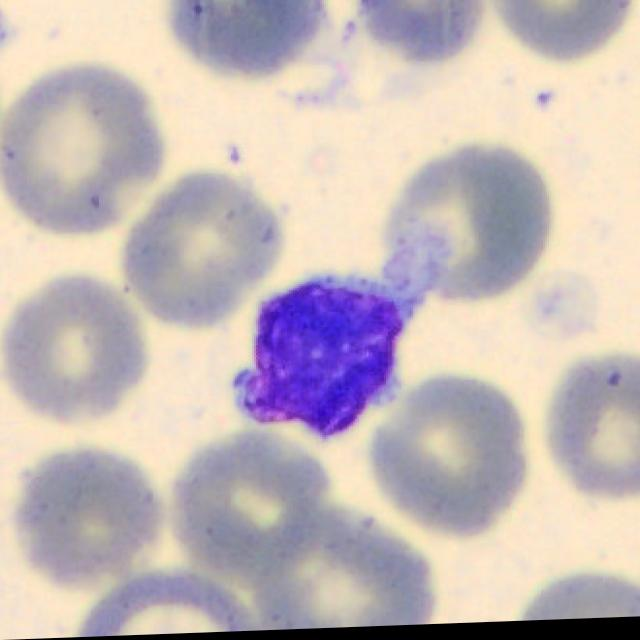Linfocito: (231, 280, 419, 443)
